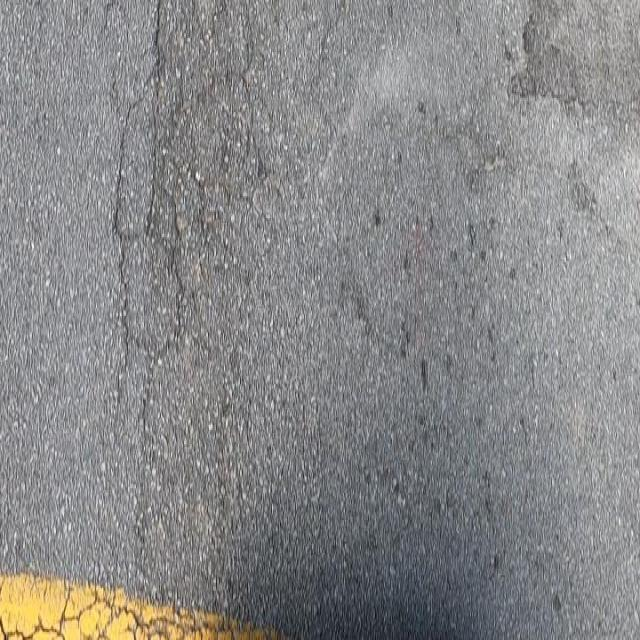cracks: (95, 3, 247, 564)
